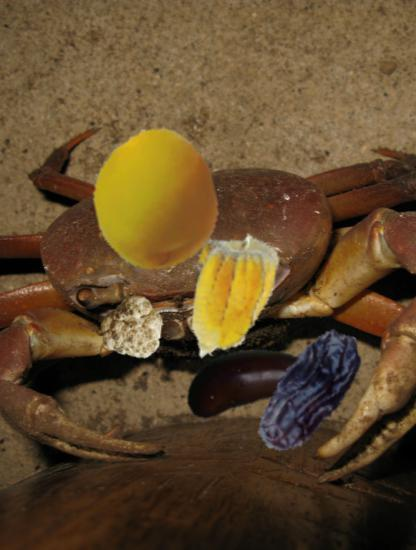Cauliflower: (99, 294, 164, 359)
Dates: (240, 321, 381, 462)
Eggplant: (181, 312, 319, 450)
Peach: (84, 128, 227, 271)
Physalis: (169, 231, 302, 364)
